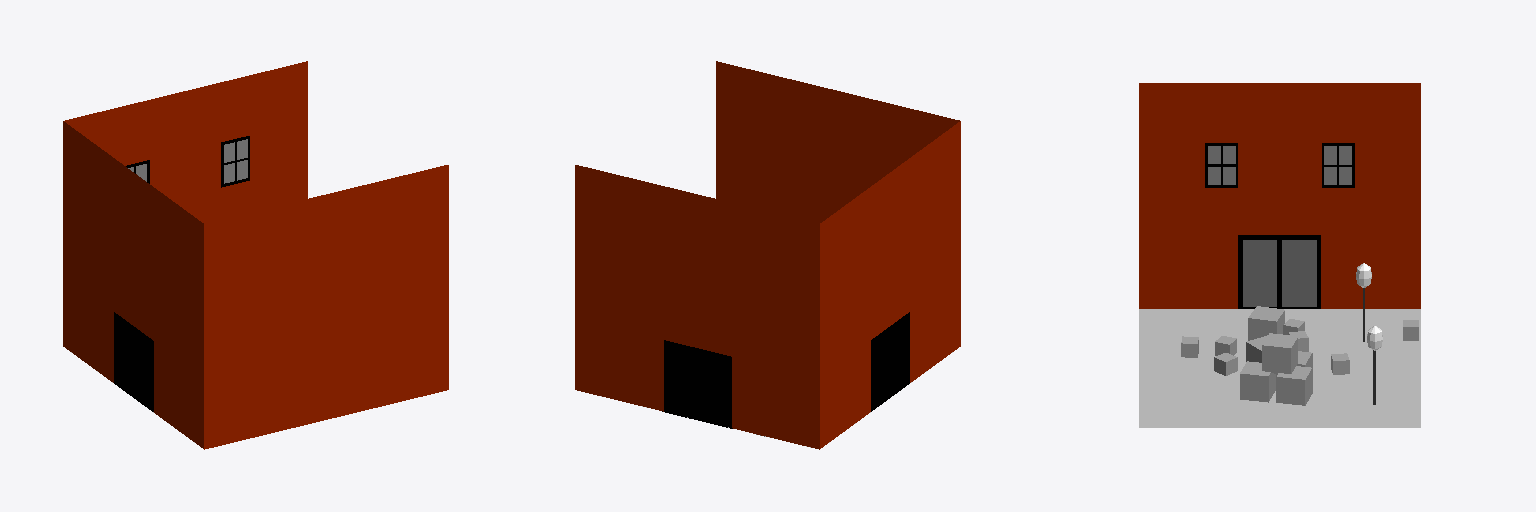
3 views of the same model, side by side, from view 1: azimuth 30°, elevation 25°; view 2: azimuth 150°, elevation 25°; view 3: azimuth 270°, elevation 25° (orthographic).
Parts seen in each view (by area): view 1: front-wall_Grid.014, left-wall_Grid.019, back-wall_Grid.020, frame5_Grid.025, window1_Grid.006; view 2: back-wall_Grid.020, left-wall_Grid.019, front-wall_Grid.014, frame6_Grid.026, frame5_Grid.025; view 3: left-wall_Grid.019, floor_Grid.033, door1_Grid.031, frame5_Grid.025, Cube.010_Cube.012, Cube.008_Cube.010, Cube.009_Cube.011, Cube.003_Cube.004, window3_Grid.010, window4_Grid.011, frame4_Grid.024.
Boxes of the visible parts, x1=… form: front-wall_Grid.014: x1=204, y1=165, x2=448, y2=449; left-wall_Grid.019: x1=63, y1=121, x2=203, y2=448; back-wall_Grid.020: x1=64, y1=61, x2=307, y2=223; frame5_Grid.025: x1=114, y1=312, x2=153, y2=411; window1_Grid.006: x1=224, y1=139, x2=247, y2=183; back-wall_Grid.020: x1=575, y1=165, x2=819, y2=449; left-wall_Grid.019: x1=820, y1=121, x2=960, y2=448; front-wall_Grid.014: x1=716, y1=61, x2=959, y2=223; frame6_Grid.026: x1=662, y1=340, x2=732, y2=428; frame5_Grid.025: x1=871, y1=312, x2=909, y2=411; left-wall_Grid.019: x1=1139, y1=83, x2=1420, y2=308; floor_Grid.033: x1=1139, y1=309, x2=1420, y2=427; door1_Grid.031: x1=1243, y1=240, x2=1316, y2=306; frame5_Grid.025: x1=1238, y1=235, x2=1320, y2=308; Cube.010_Cube.012: x1=1262, y1=333, x2=1297, y2=373; Cube.008_Cube.010: x1=1276, y1=366, x2=1312, y2=405; Cube.009_Cube.011: x1=1240, y1=361, x2=1275, y2=402; Cube.003_Cube.004: x1=1248, y1=306, x2=1284, y2=340; window3_Grid.010: x1=1324, y1=146, x2=1351, y2=184; window4_Grid.011: x1=1208, y1=146, x2=1235, y2=184; frame4_Grid.024: x1=1205, y1=143, x2=1237, y2=187.
Bounding box in the file's own units: 3.4 × 3.01 × 3.4.